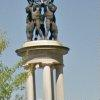Statue: (13, 1, 71, 61)
